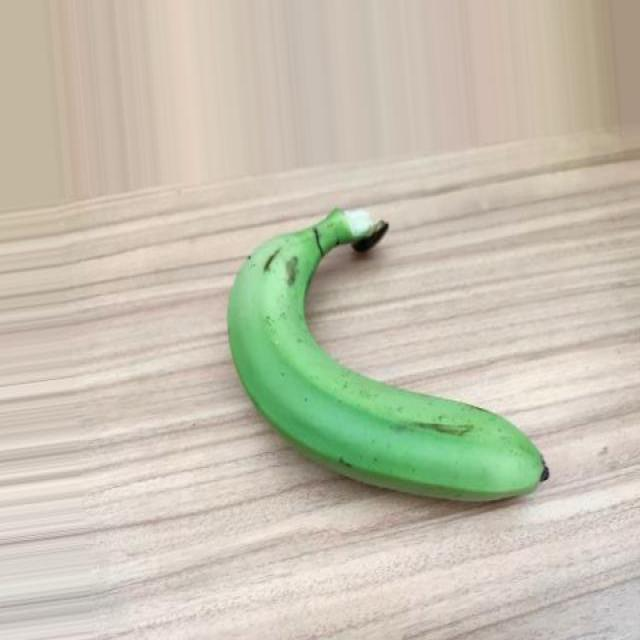Unripe: (226, 207, 553, 505)
